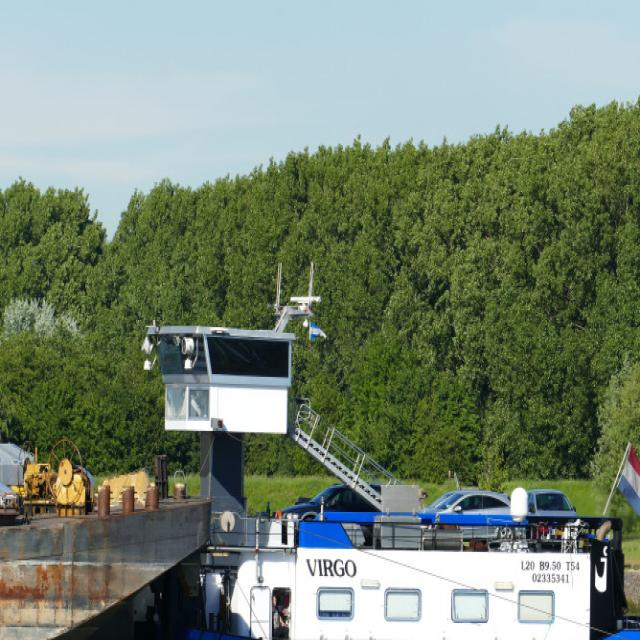tugboat: (92, 258, 640, 640)
